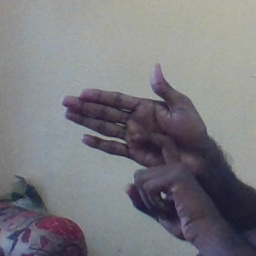R: (62, 60, 213, 204)
